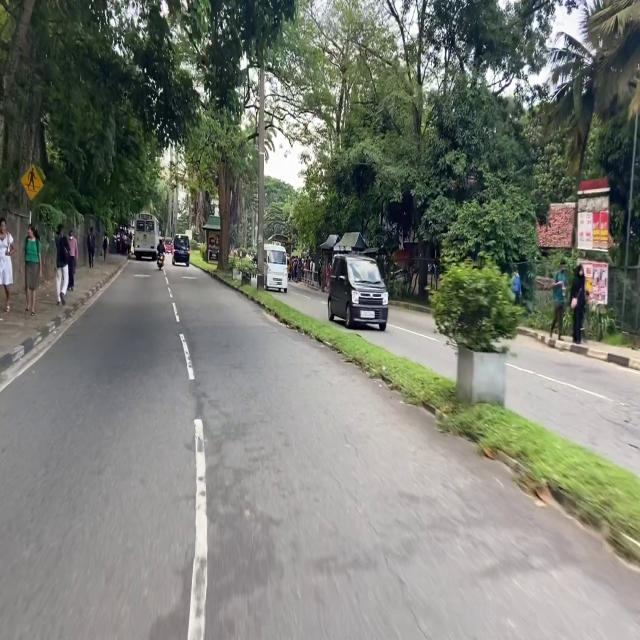bus: (133, 213, 159, 260), (267, 233, 291, 274)
car: (328, 237, 388, 332)
motorcycle: (157, 252, 164, 270)
person: (23, 225, 42, 315), (68, 227, 95, 288), (0, 217, 14, 312), (550, 264, 566, 339), (55, 224, 69, 305), (571, 264, 585, 344), (68, 230, 78, 290), (511, 270, 521, 303), (321, 259, 326, 292), (157, 239, 166, 255), (103, 232, 108, 260), (303, 257, 308, 284), (297, 257, 302, 283), (311, 262, 315, 285), (113, 231, 117, 253), (128, 232, 132, 253), (116, 232, 120, 252)
van: (264, 243, 287, 293), (172, 235, 189, 266)
